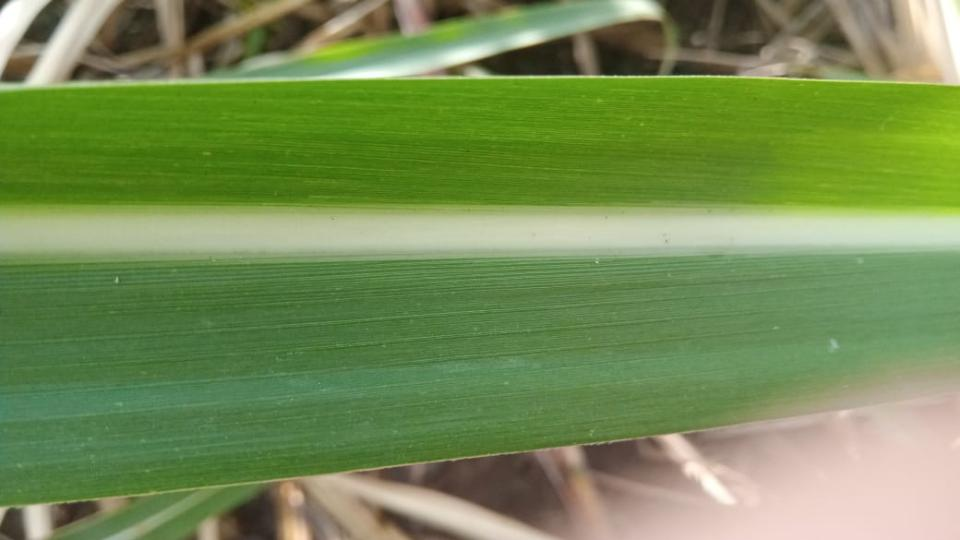Healthy: (0, 77, 959, 510)
